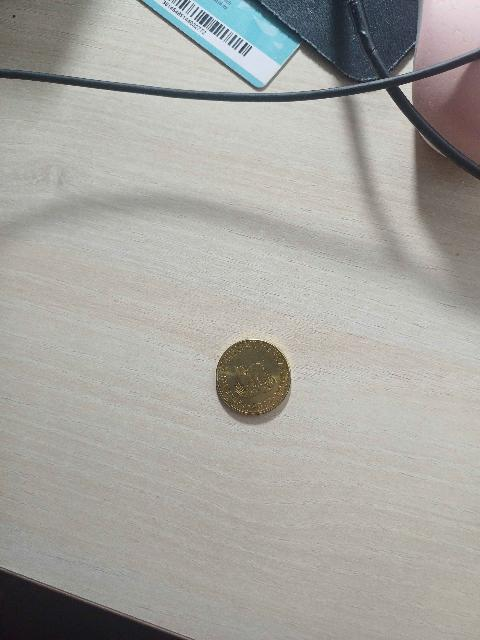coin: (219, 341, 290, 412)
